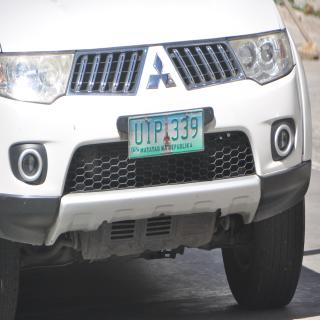license: (129, 111, 205, 159)
